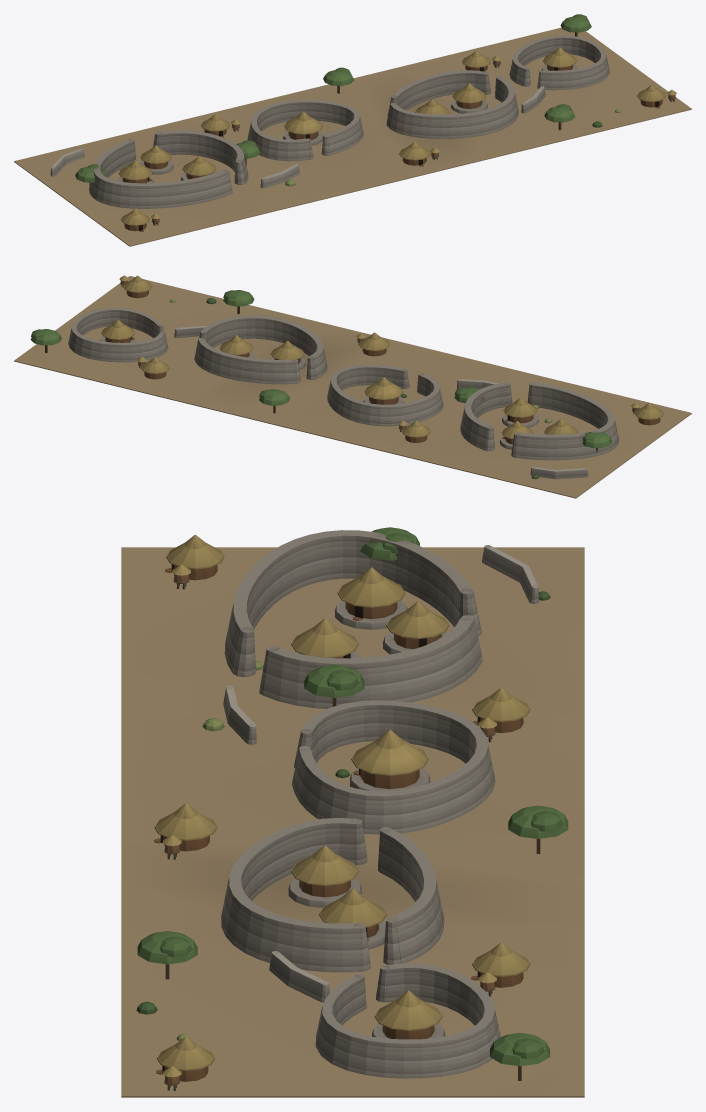
Rendered from valley-ruins.glb.
3 views of the same model, one above another, from view 1: azimuth 30°, elevation 25°; view 2: azimuth 150°, elevation 25°; view 3: azimuth 270°, elevation 25° (orthographic). The views are drawn at different scales.
Visible parts, largest first — view 1: p0_ground, p1_walls, p2_houses, p3_trees; view 2: p0_ground, p1_walls, p2_houses, p3_trees; view 3: p0_ground, p1_walls, p2_houses, p3_trees.
Boxes of the visible parts, box(x1,y1,x2,y2) form: p0_ground: box(14, 27, 691, 246); p1_walls: box(50, 35, 609, 208); p2_houses: box(118, 47, 676, 232); p3_trees: box(75, 14, 620, 186); p0_ground: box(14, 276, 691, 498); p1_walls: box(68, 307, 619, 479); p2_houses: box(100, 275, 663, 449); p3_trees: box(30, 290, 611, 479); p0_ground: box(121, 547, 584, 1097); p1_walls: box(221, 530, 538, 1078); p2_houses: box(154, 534, 530, 1090); p3_trees: box(136, 527, 568, 1080).
Size of the model in its own units: 140 by 6.52 by 50.
